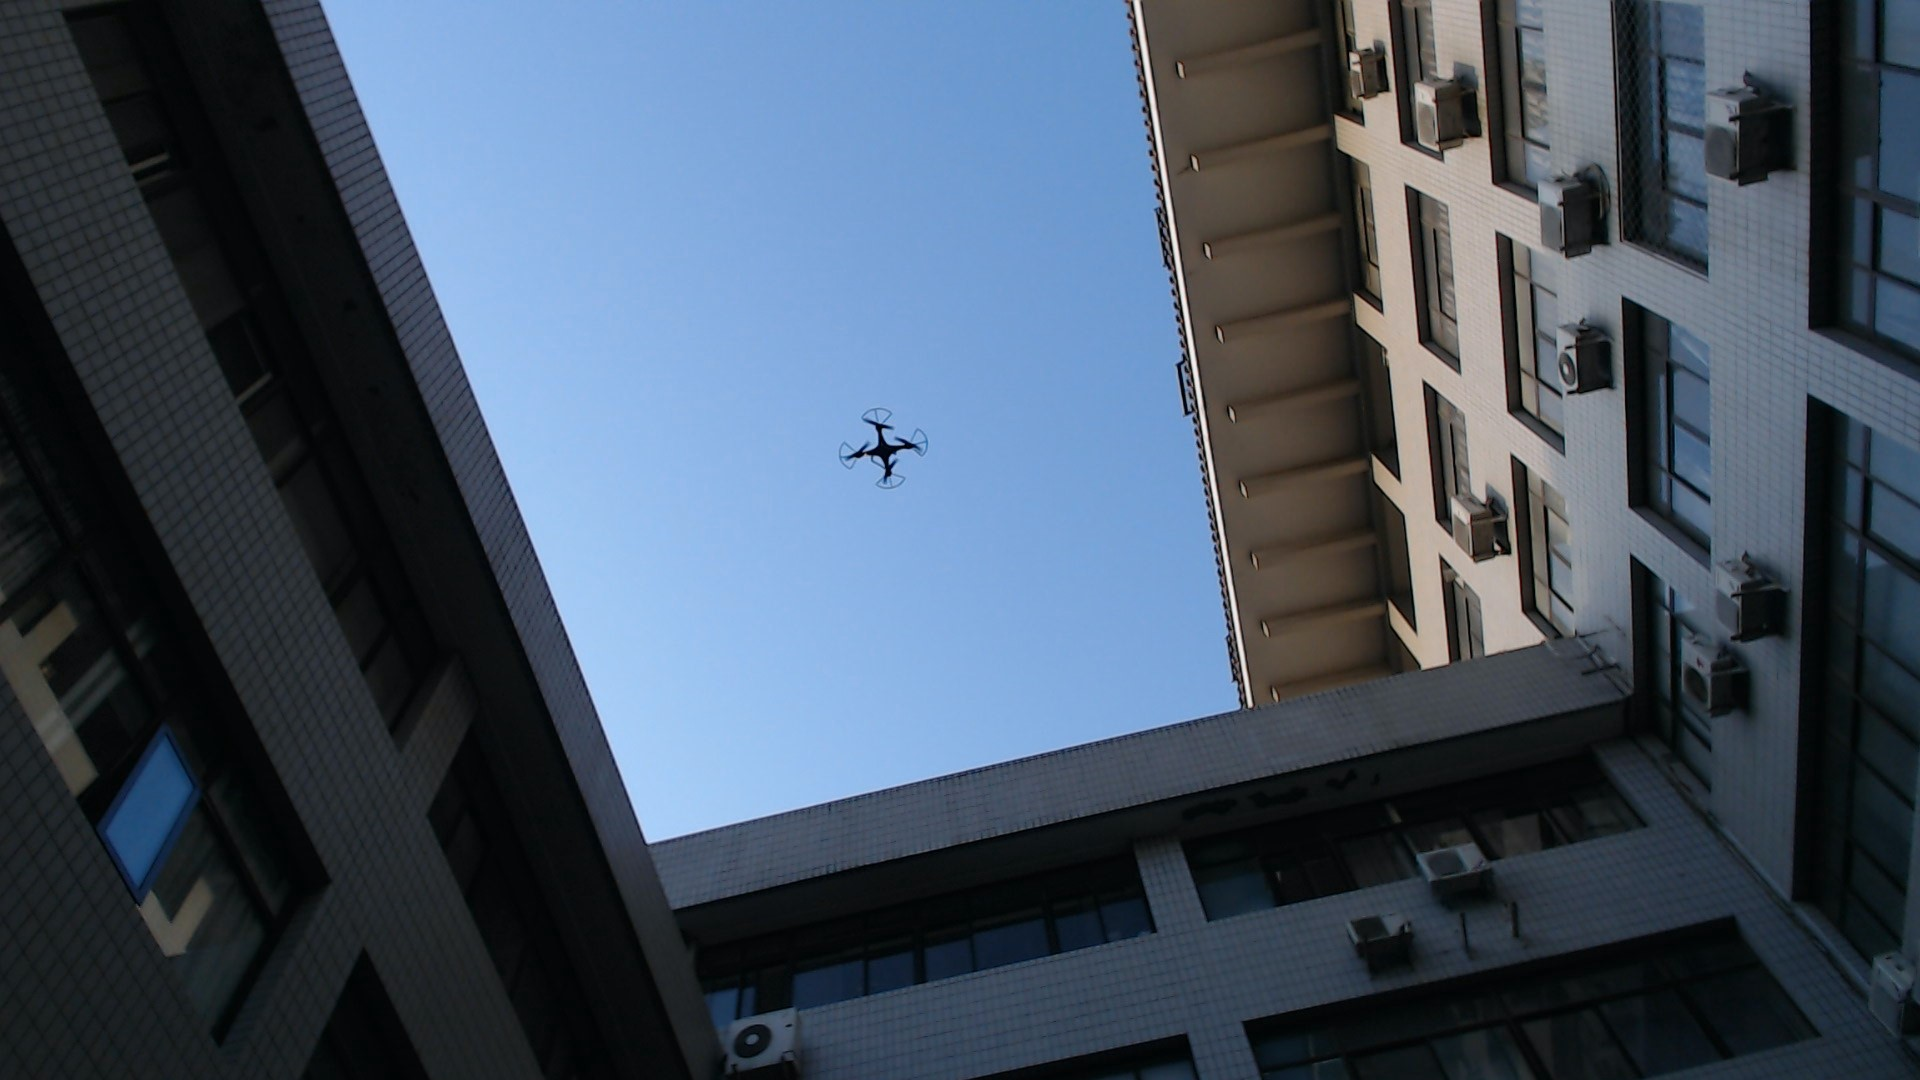drone: (811, 392, 961, 502)
